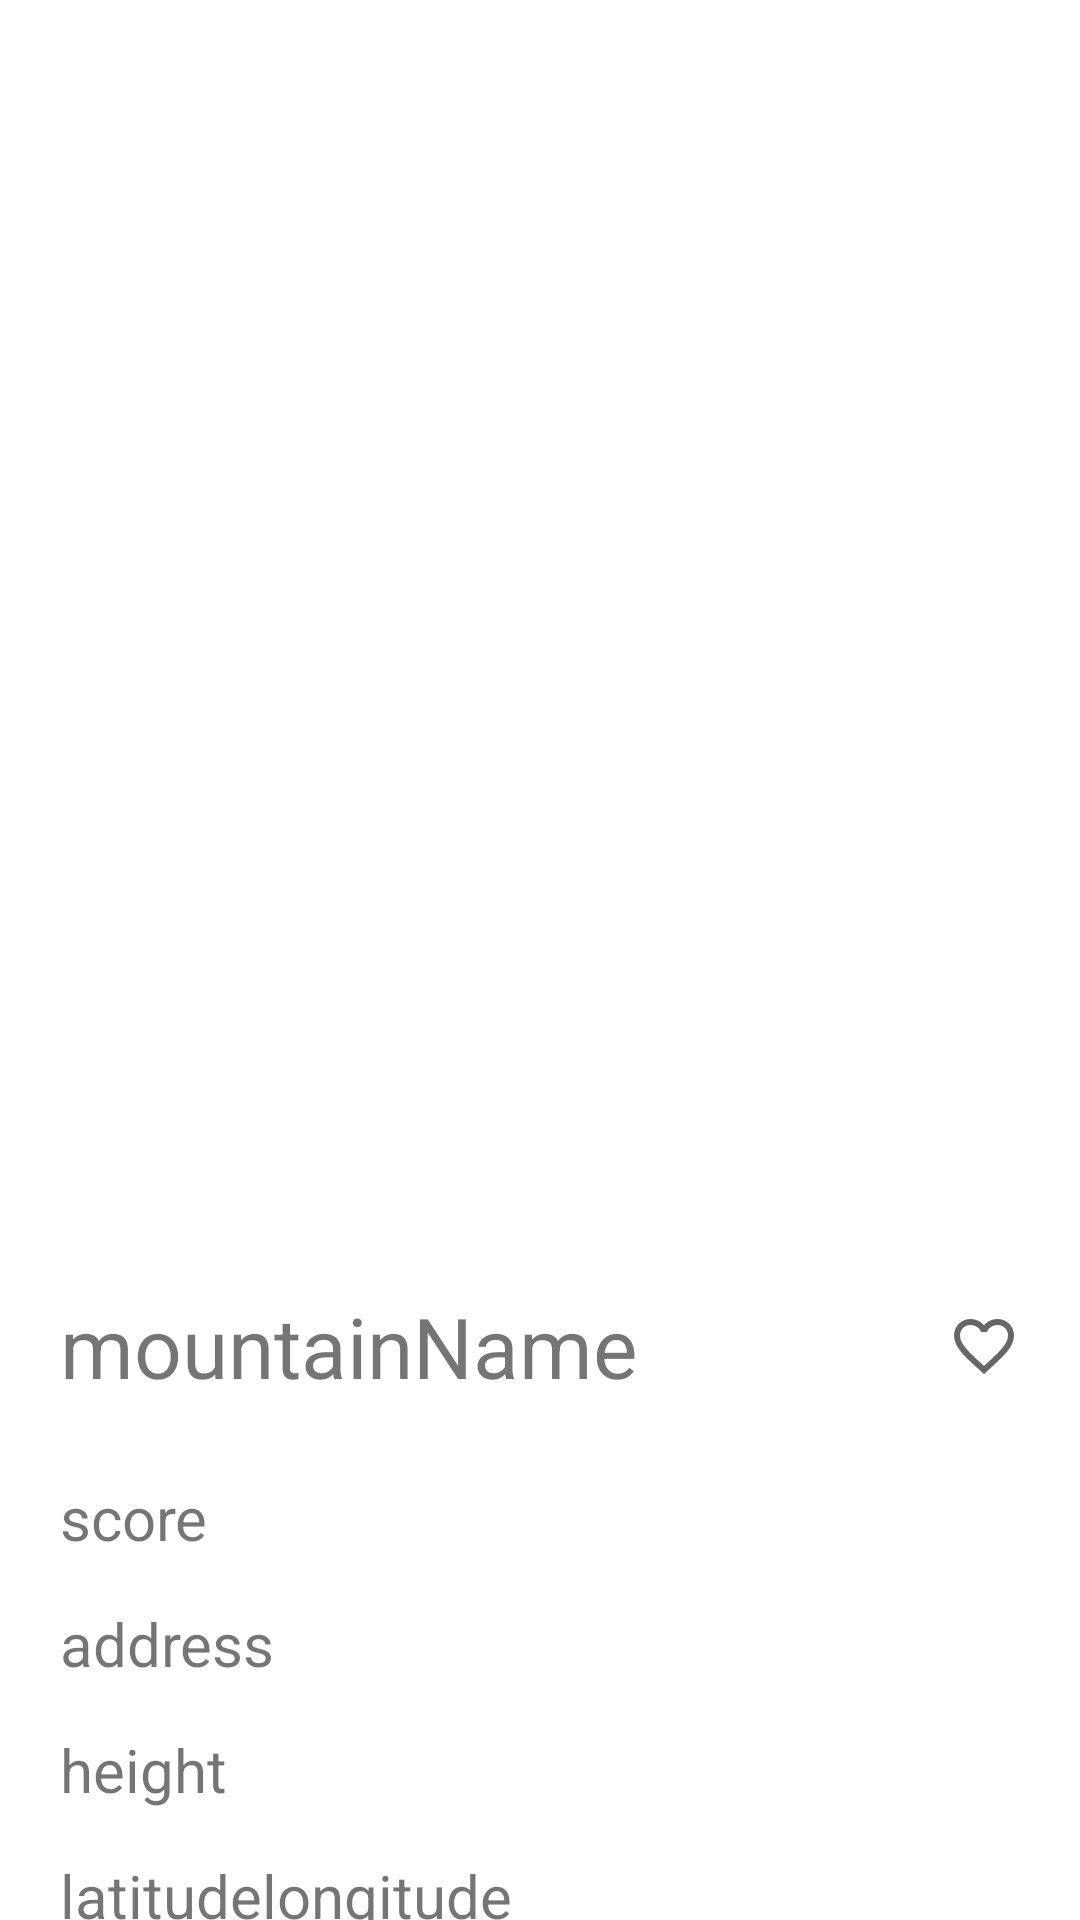

Point at icon controls on the screen. Image size 1080x1920, points as (x=x, y=y).
unfilledhearticon: (x=984, y=1346)
